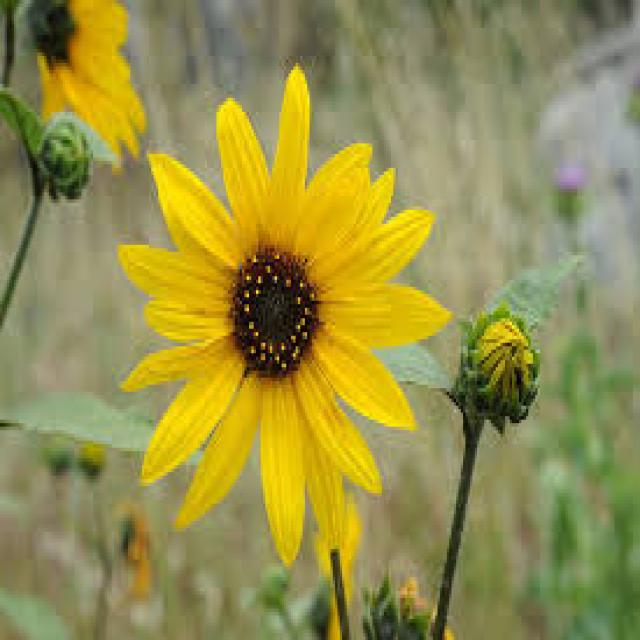sunflower: (113, 47, 466, 573), (0, 1, 150, 186)
